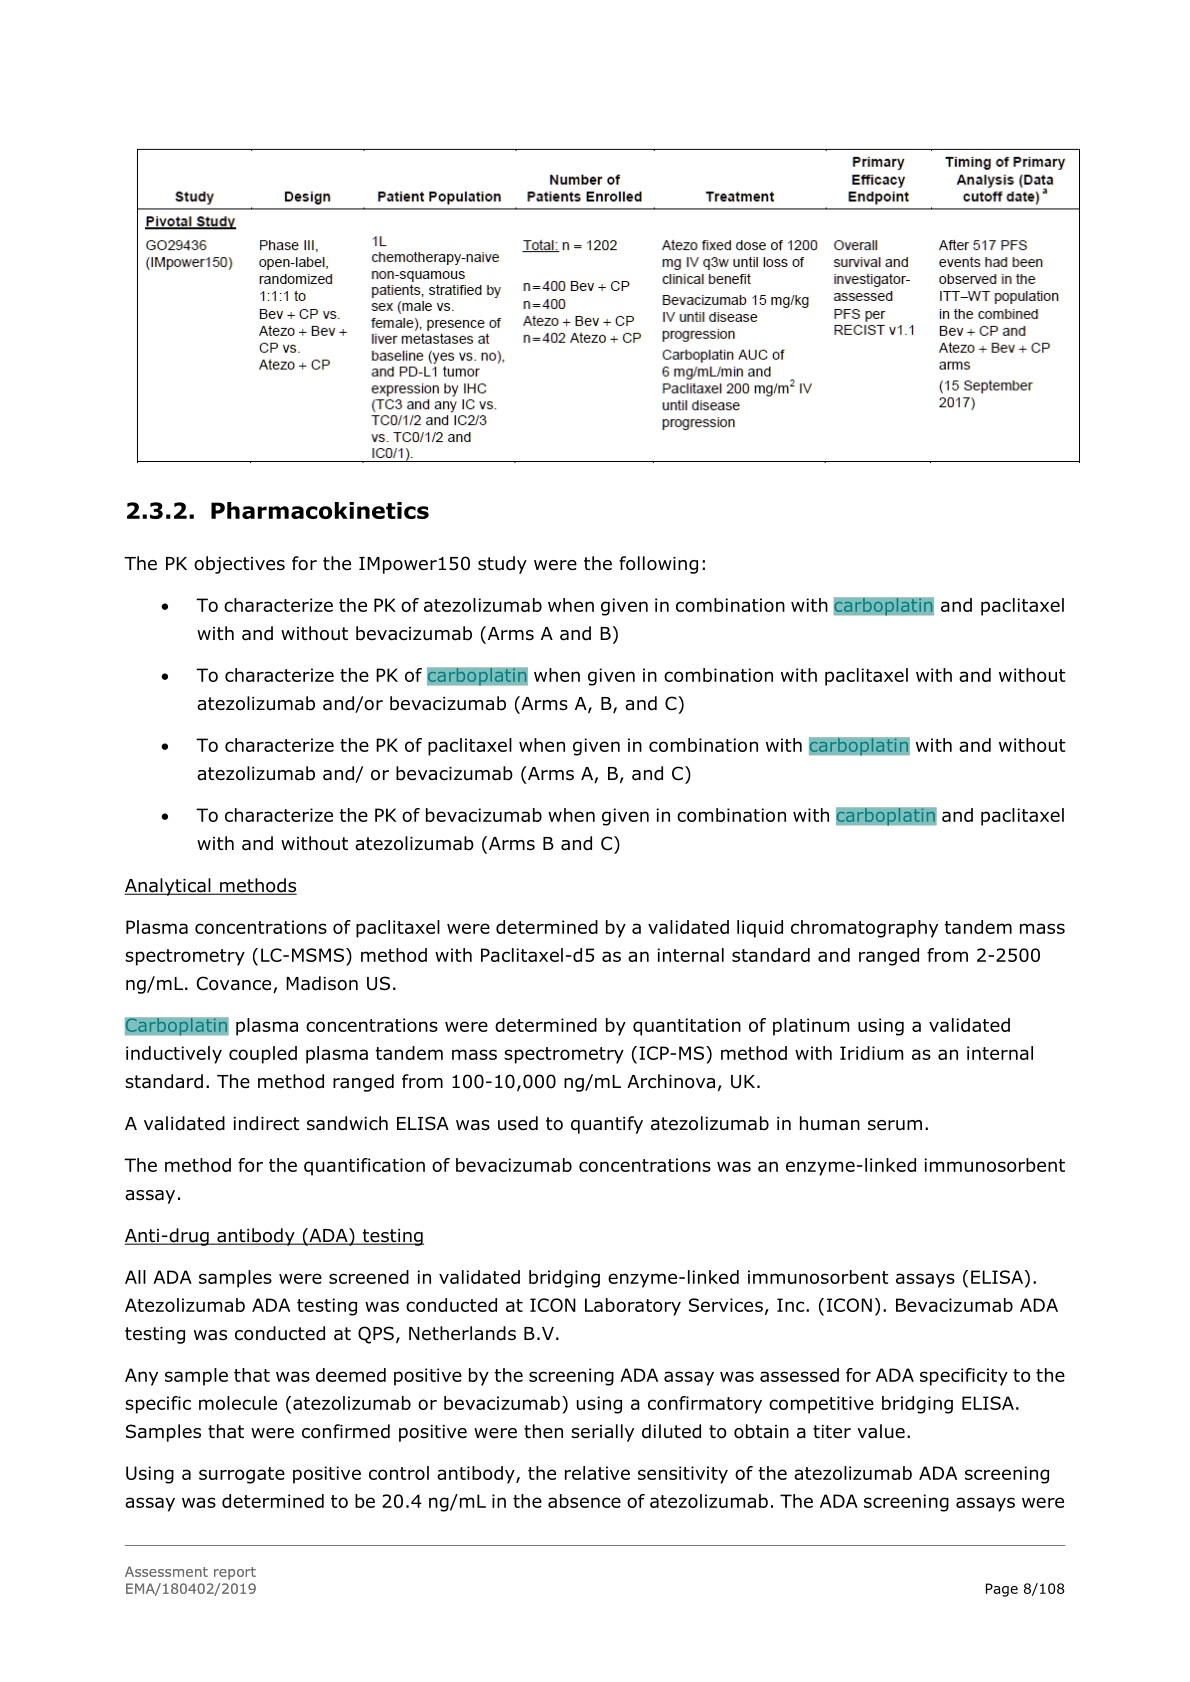partial_lined: (135, 147, 1083, 465)
